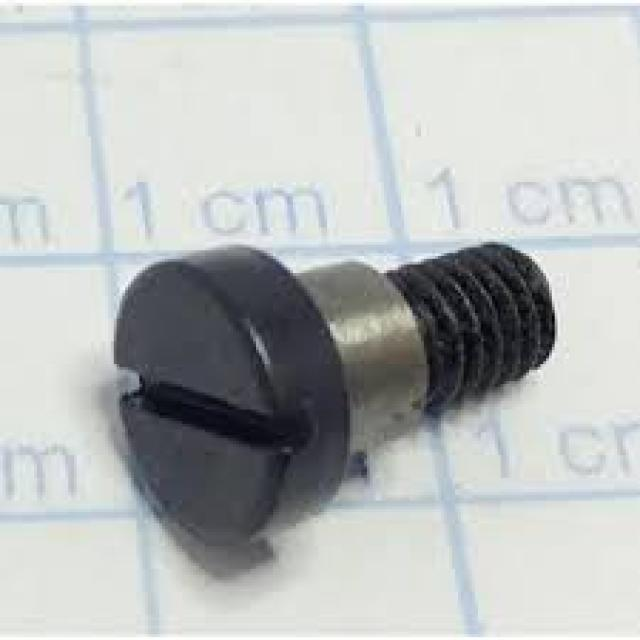duz: (111, 243, 347, 550)
